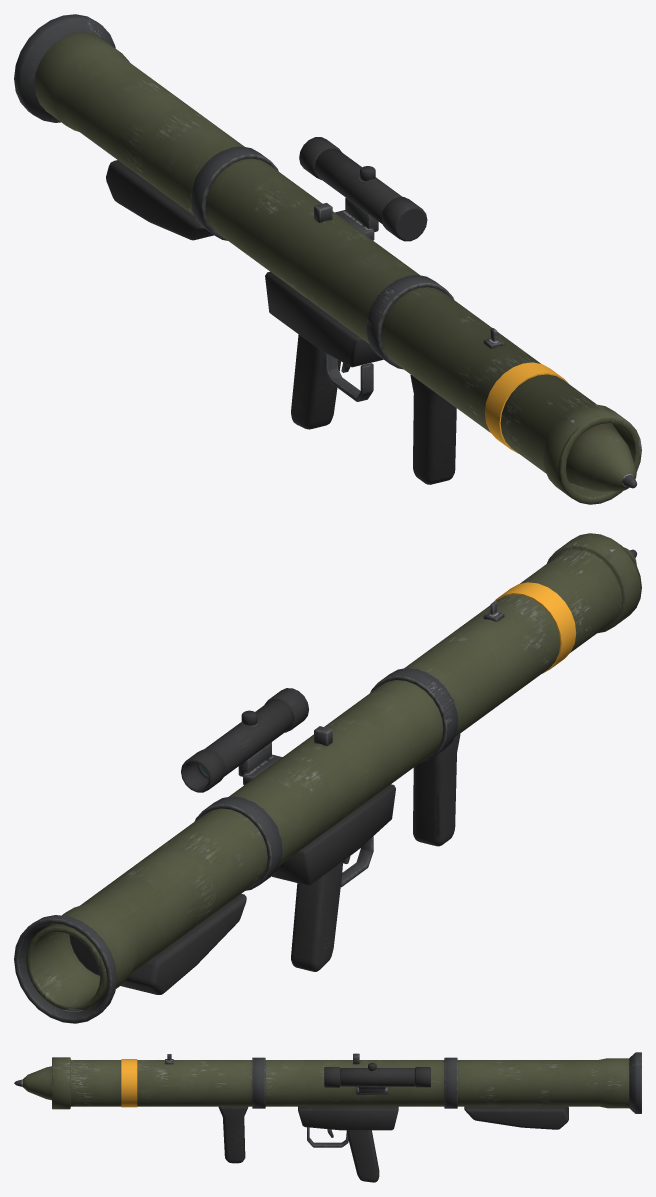
File: rocket.glb
3 renders of one model, top to bottom at view 1: azimuth 30°, elevation 25°; view 2: azimuth 150°, elevation 25°; view 3: azimuth 270°, elevation 25°, orthographic. The views are drawn at different scales.
Parts seen in each view (by area): view 1: LaunchTube, Sight, FireControl, ForeGrip, Warhead, ShoulderRest, Venturi, Grip, TubeClamp1, TubeClamp2, AccentBand, TriggerGuard (+2 smaller); view 2: LaunchTube, FireControl, ShoulderRest, Grip, Sight, ForeGrip, Venturi, TubeClamp1, TubeClamp2, AccentBand, EyeCup, SightBracket; view 3: LaunchTube, FireControl, ShoulderRest, Sight, ForeGrip, Grip, AccentBand, Venturi, TubeClamp2, Warhead, TubeClamp1, EyeCup (+2 smaller).
Part boxes in pixels (x1=…): LaunchTube: x1=34, y1=32, x2=641, y2=504; Sight: x1=315, y1=148, x2=427, y2=241; FireControl: x1=265, y1=272, x2=383, y2=367; ForeGrip: x1=410, y1=375, x2=456, y2=484; Warhead: x1=566, y1=423, x2=636, y2=491; ShoulderRest: x1=106, y1=160, x2=213, y2=240; Venturi: x1=14, y1=14, x2=115, y2=122; Grip: x1=291, y1=334, x2=340, y2=429; TubeClamp1: x1=190, y1=146, x2=278, y2=240; TubeClamp2: x1=366, y1=275, x2=454, y2=369; AccentBand: x1=485, y1=362, x2=568, y2=453; TriggerGuard: x1=324, y1=353, x2=373, y2=401; LaunchTube: x1=26, y1=533, x2=641, y2=1011; FireControl: x1=271, y1=784, x2=395, y2=885; ShoulderRest: x1=121, y1=894, x2=246, y2=994; Grip: x1=291, y1=861, x2=343, y2=971; Sight: x1=197, y1=688, x2=308, y2=778; ForeGrip: x1=413, y1=734, x2=460, y2=846; Venturi: x1=14, y1=915, x2=116, y2=1023; TubeClamp1: x1=194, y1=796, x2=282, y2=890; TubeClamp2: x1=370, y1=667, x2=458, y2=762; AccentBand: x1=494, y1=582, x2=576, y2=673; EyeCup: x1=181, y1=749, x2=225, y2=792; SightBracket: x1=238, y1=742, x2=282, y2=785; LaunchTube: x1=52, y1=1057, x2=629, y2=1109; FireControl: x1=298, y1=1106, x2=398, y2=1130; ShoulderRest: x1=464, y1=1106, x2=568, y2=1129; Sight: x1=324, y1=1062, x2=414, y2=1089; ForeGrip: x1=218, y1=1106, x2=248, y2=1163; Grip: x1=346, y1=1130, x2=379, y2=1182; AccentBand: x1=121, y1=1059, x2=137, y2=1107; Venturi: x1=629, y1=1052, x2=641, y2=1113; TubeClamp2: x1=252, y1=1057, x2=265, y2=1108; Warhead: x1=22, y1=1066, x2=51, y2=1100; TubeClamp1: x1=444, y1=1057, x2=457, y2=1108; EyeCup: x1=415, y1=1067, x2=430, y2=1087.
Size of the model in its own units: 0.1475 by 0.2722 by 1.18.
Materials: 5 (3 with a texture image).
